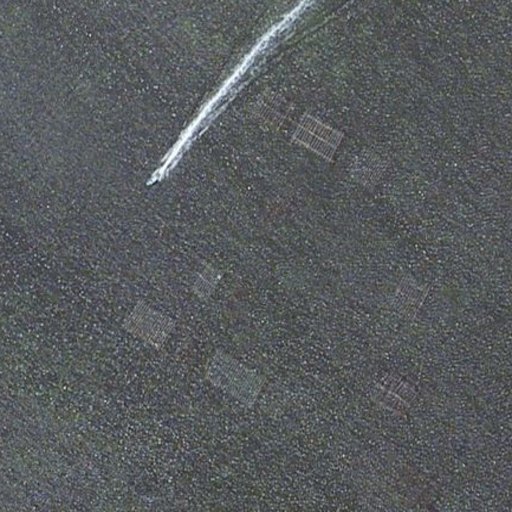ship: (144, 168, 167, 189)
